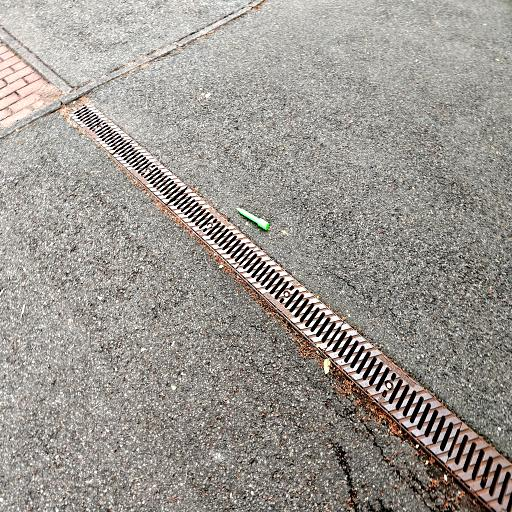Probe-Detection: (237, 208, 269, 230)
